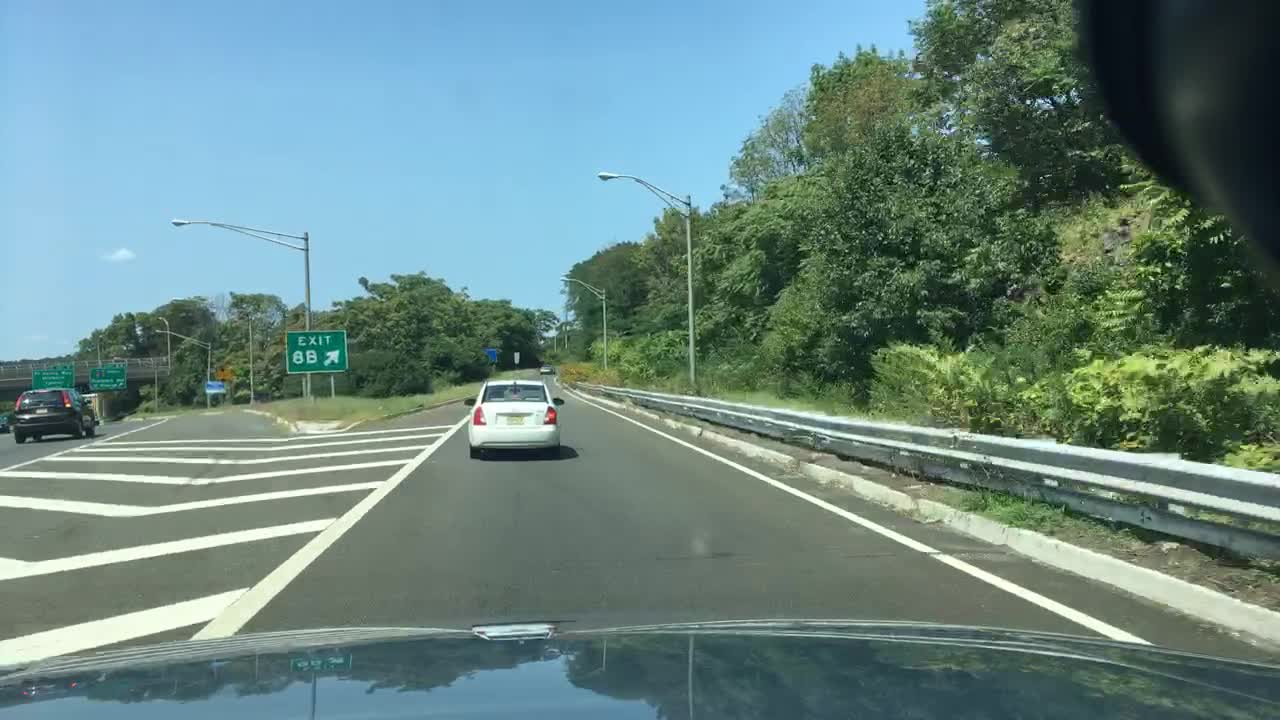car: (462, 379, 565, 458), (8, 387, 98, 443), (537, 363, 552, 374)
traffic sign: (283, 327, 349, 376), (27, 359, 76, 392), (87, 366, 128, 392), (206, 381, 227, 397), (213, 367, 232, 381), (487, 348, 498, 364)
